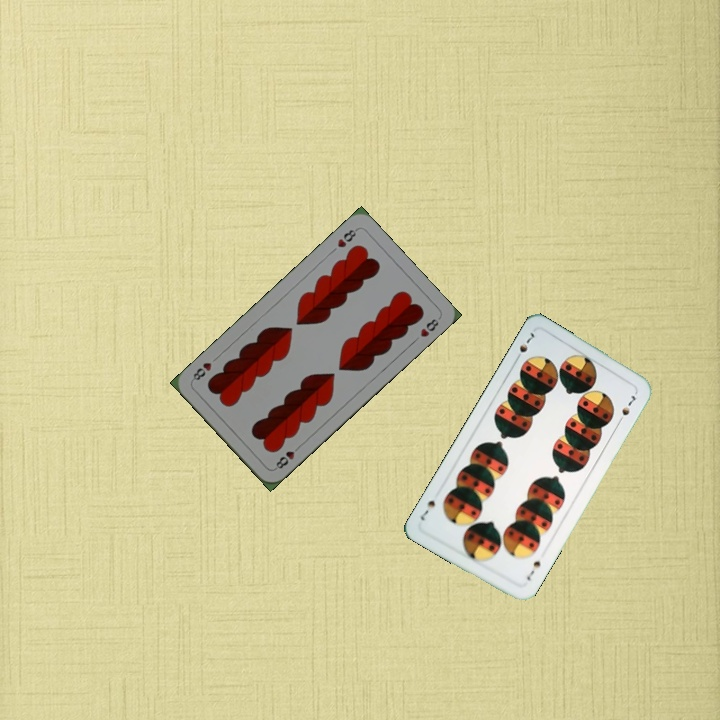H8: (270, 441, 303, 472), (333, 224, 360, 250)
S7: (511, 328, 537, 364), (522, 556, 543, 584)
